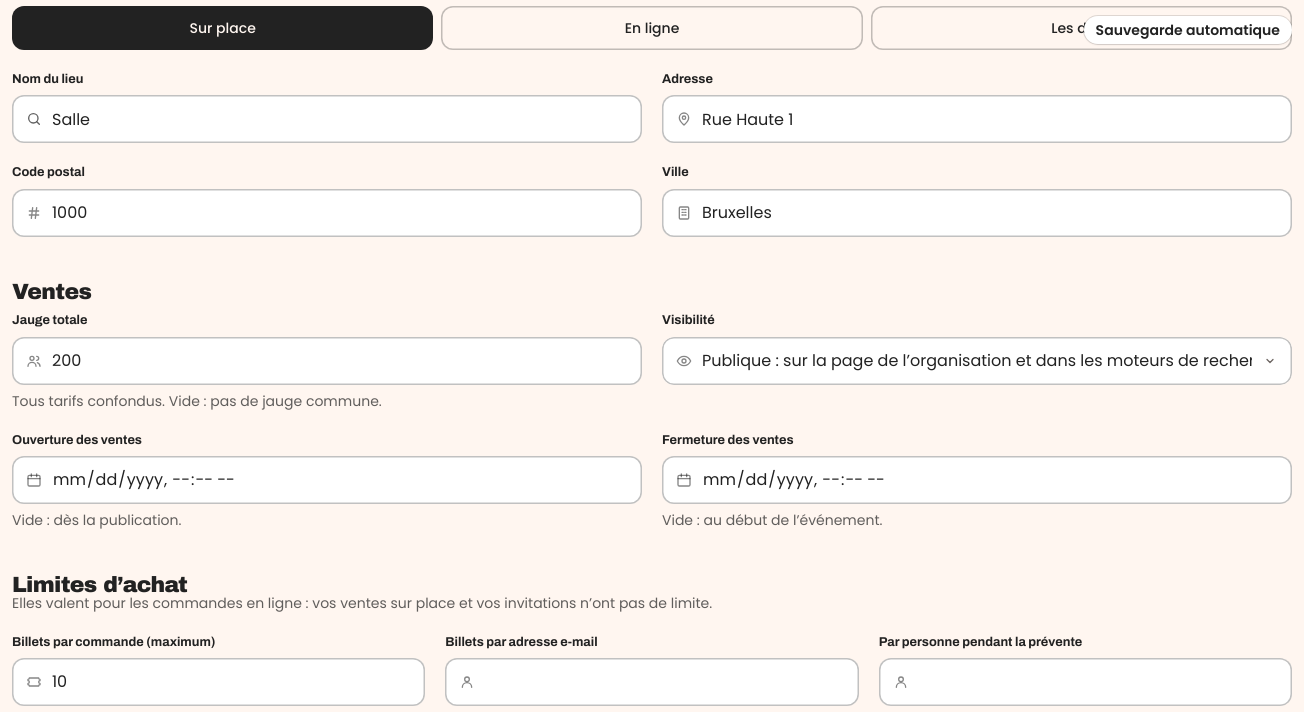
Test: réglages d'un événement : enregistrement automatique (RG-EVT-01, RG-EVT-10) › autre membre passé entre-temps : avertissement ; refus : « non enregistré »
This screenshot has width=1304, height=712.
(page scrolled)
Replace the text in the number field with id "capacity" with "210": (327, 360) [12, 336, 642, 384]
Wait 1050 ms
(page scrolled)
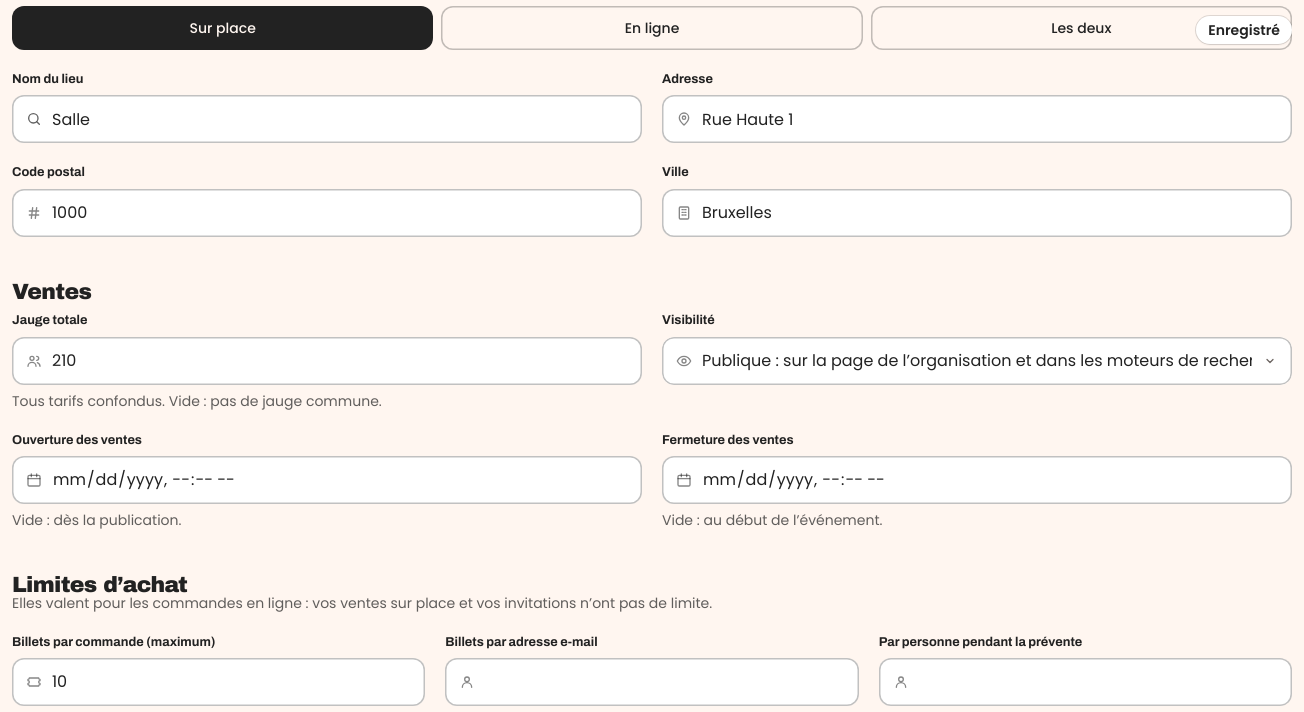
Replace the text in the number field with id "capacity" with "211": (327, 360) [12, 336, 642, 384]
Wait 1050 ms
(page scrolled)
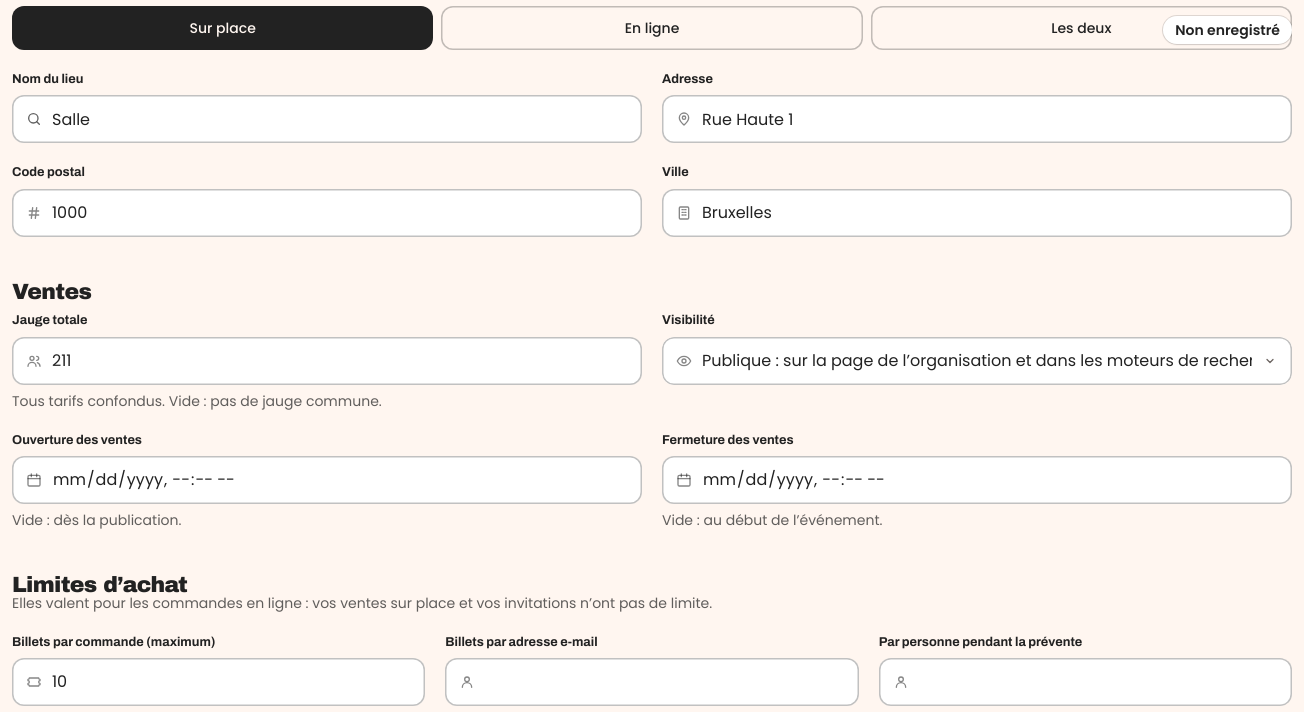
Now the text "Non enregistré" is shown, box [1163, 16, 1292, 44]
